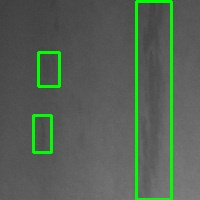inclusion: (136, 1, 171, 199), (38, 52, 59, 86), (33, 115, 51, 152)
